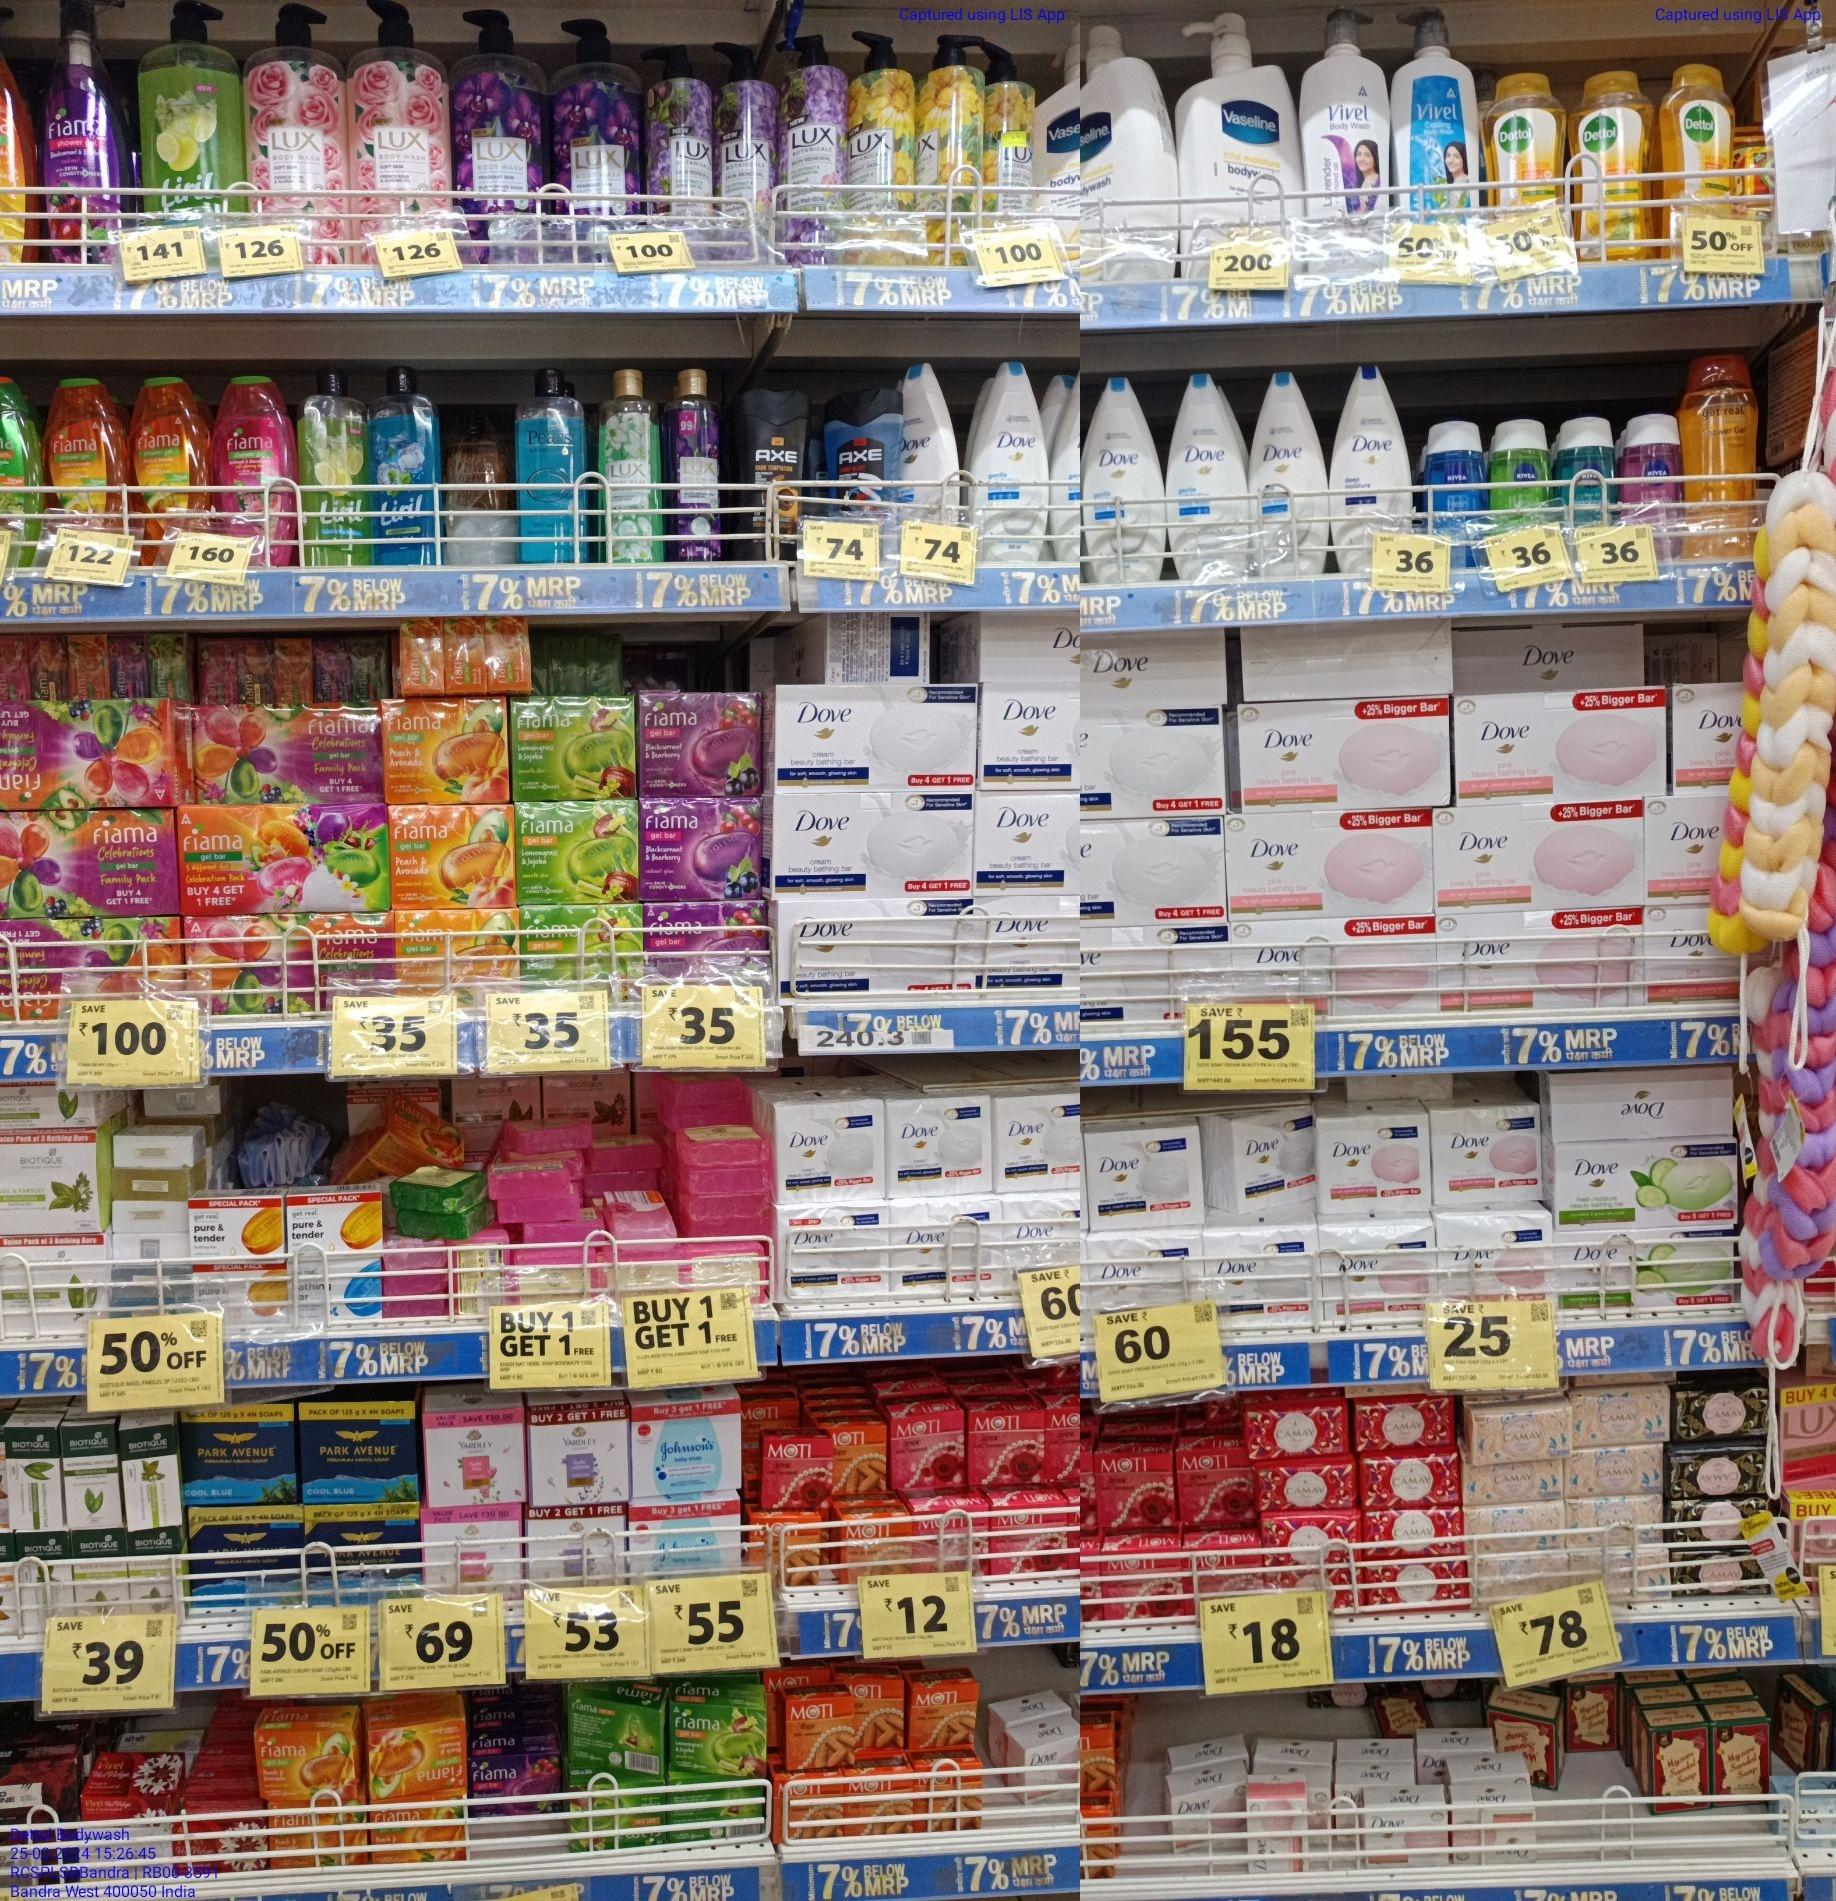Dettol_Bodywash_Refresh: (1480, 71, 1568, 263), (1570, 71, 1658, 261), (1665, 61, 1736, 260)
Dove_Deep_Moisture_Body_Wash_250ML: (1332, 365, 1412, 577)
Dove_Gentle_Exfoliating_Body_Wash_250ML: (1167, 375, 1247, 582), (1081, 380, 1162, 582), (1249, 370, 1327, 574), (971, 362, 1045, 565)
Fiama_Shower_Gel_Patchouli_and_Macadamia_250ML: (217, 373, 292, 565)
Fiama_Shower_Gel_Peach_and_Avocado_250ML: (44, 377, 131, 565), (136, 377, 212, 567)
Get_Real_Shower_Gel_Moisturising_Glycerin_300ML: (1683, 355, 1755, 562)
Liril_Cooling_Mint_Body_Wash_250ML: (372, 365, 443, 565)
Liril_Lime_and_Tea_Tree_Oil_Body_Wash_250ML: (300, 370, 370, 569)
Lux_Black_Orchid_Scent_and_Juniper_Oil_Body_Wash_245ML: (672, 368, 725, 560)
Lux_Body_Wash_Skin_Detox_Freesia_Scent_and_Alove_Vera_245ML: (599, 368, 663, 564)
Pears_Pure_Glycerin_and_Mint_Extracts_Body_Wash_250ML: (518, 368, 589, 564)
